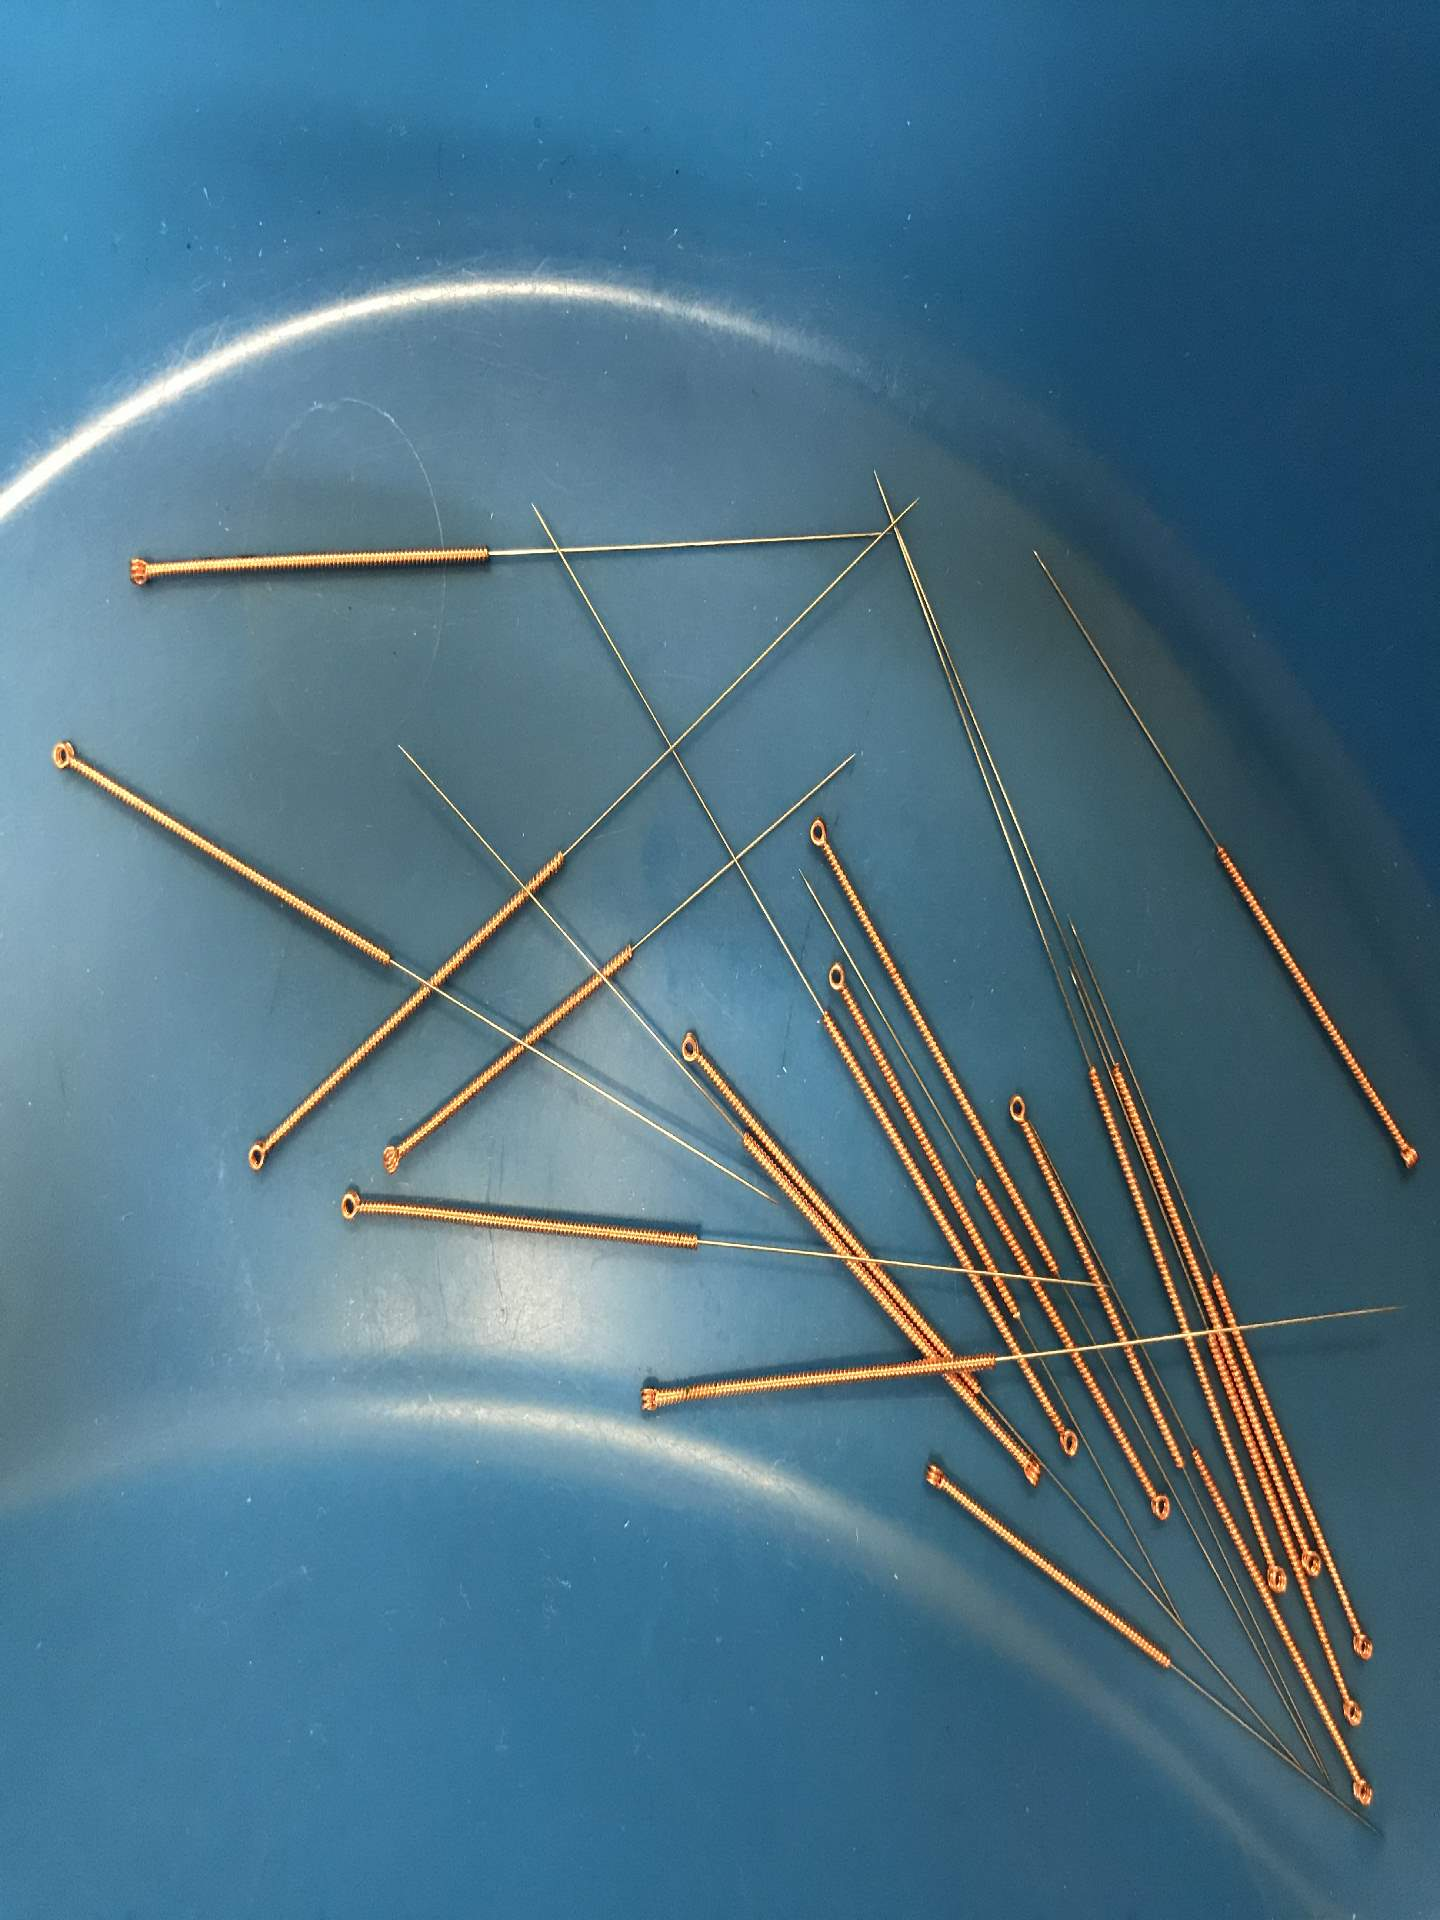needle: (325, 1181, 374, 1231), (628, 1373, 676, 1423), (1134, 1476, 1178, 1528), (1006, 1439, 1048, 1494), (915, 1451, 959, 1501), (800, 810, 838, 865), (818, 952, 856, 1005), (237, 1132, 278, 1181), (1342, 1761, 1381, 1811), (1389, 1129, 1426, 1181), (372, 1134, 413, 1181), (670, 1023, 711, 1070), (1048, 1415, 1088, 1463), (119, 550, 163, 593), (1001, 1087, 1039, 1135), (44, 735, 85, 779), (1346, 1618, 1381, 1669), (1336, 1689, 1370, 1734), (1298, 1541, 1325, 1581), (1265, 1554, 1290, 1596)
